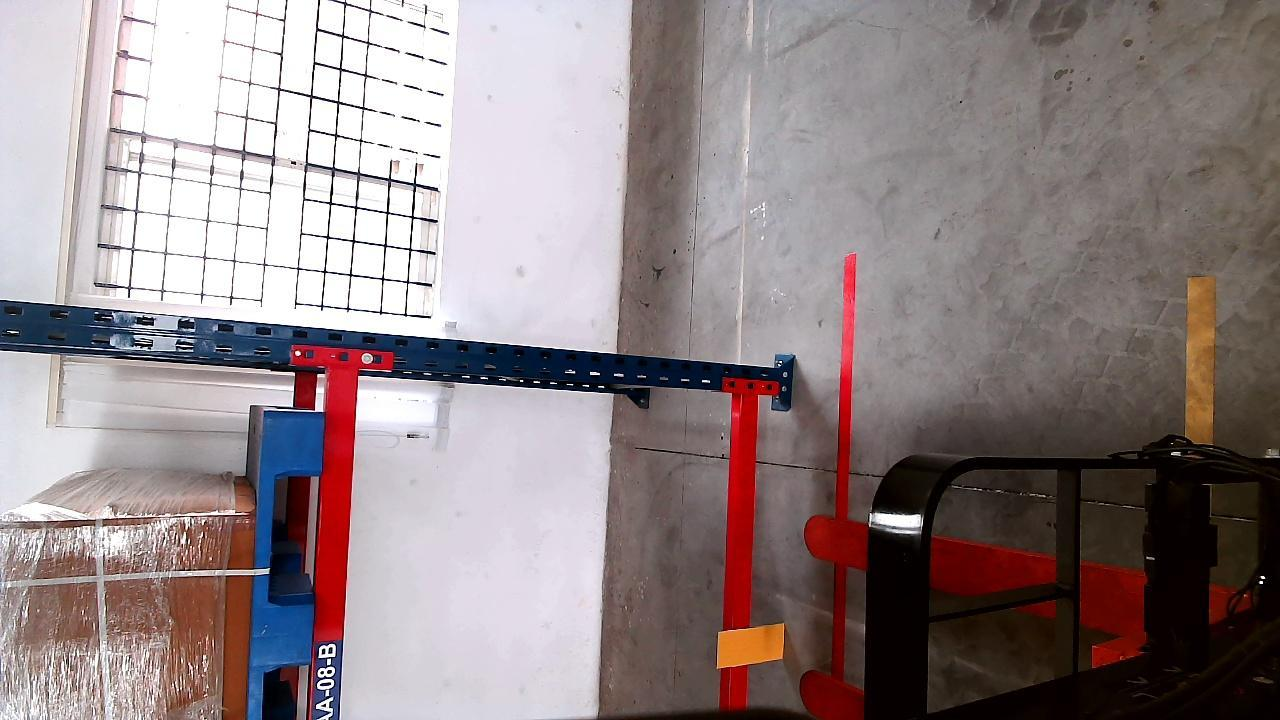red_line: (832, 251, 858, 684)
yellow_line: (1183, 274, 1215, 444)
